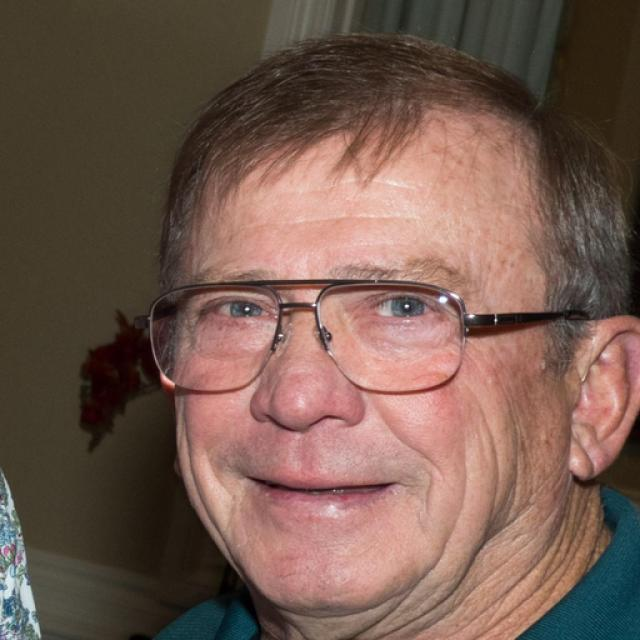Puffy Eyes - v3 Dark Circle: (366, 323, 456, 351), (210, 324, 270, 354)
